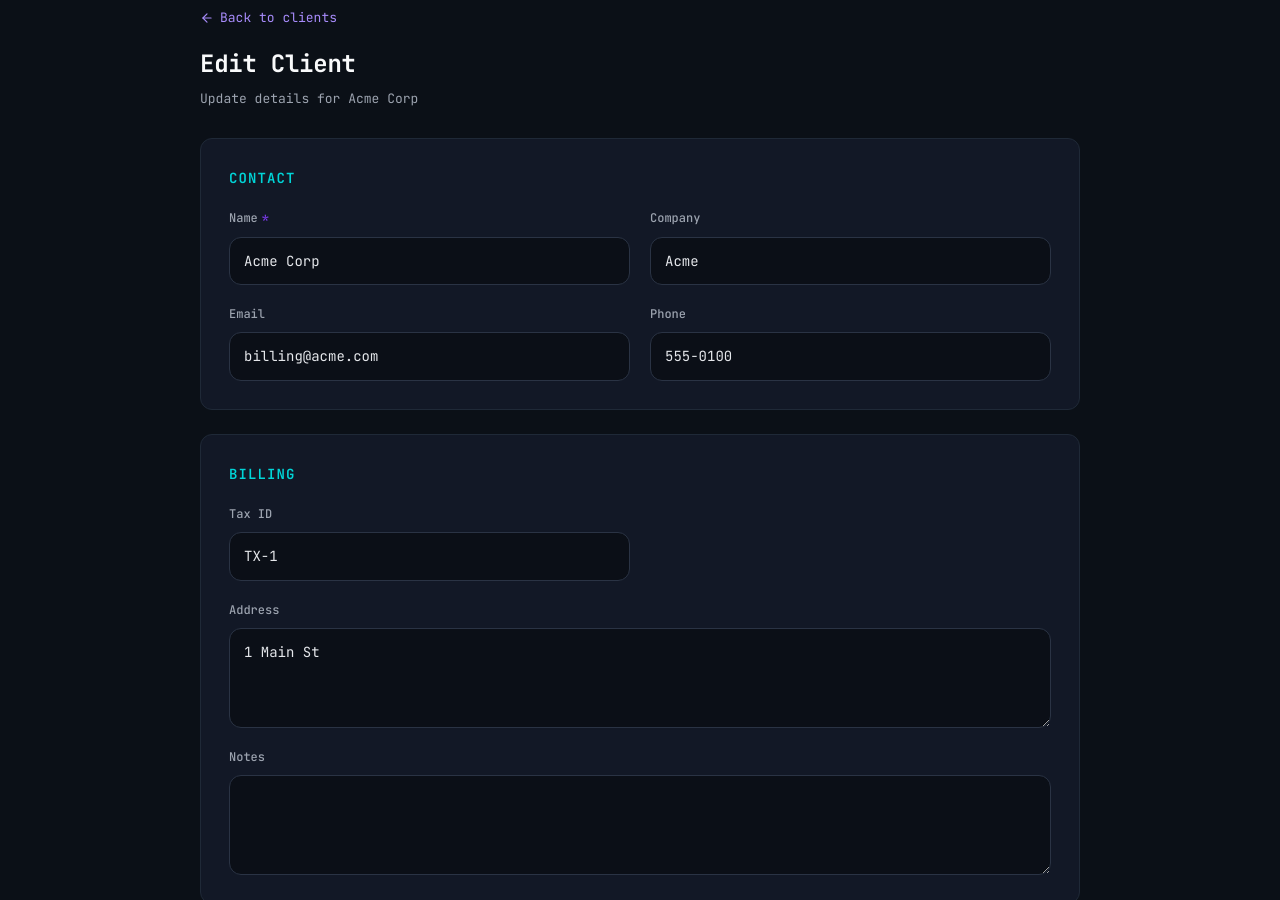
Test case: EditClient page › shows validation error when name is empty
Clear the field showing "Acme Corp" at (430, 261), box [229,237,630,285]
(page scrolled)
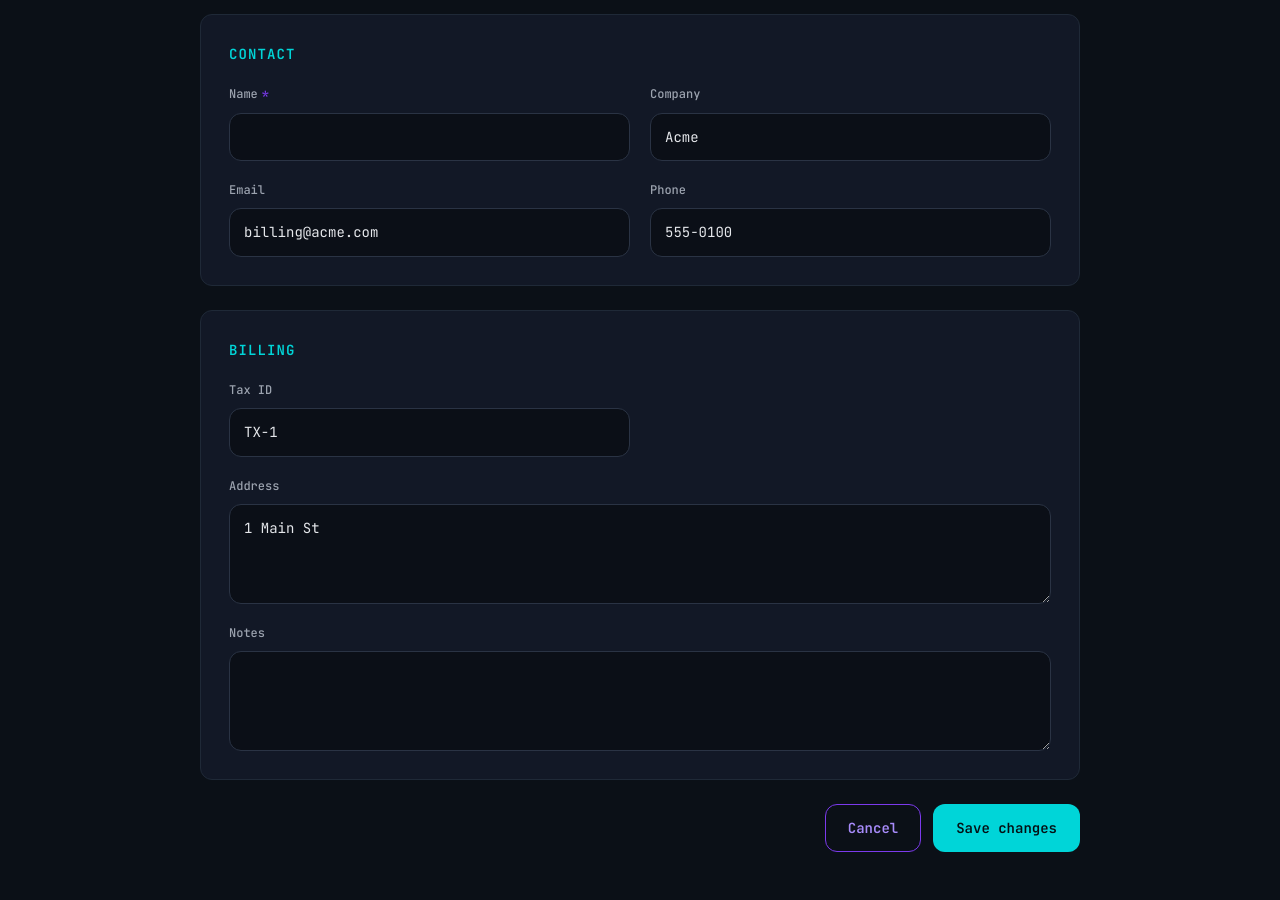
Click the button "Save changes".
click(1007, 828)  # box [933,804,1080,852]
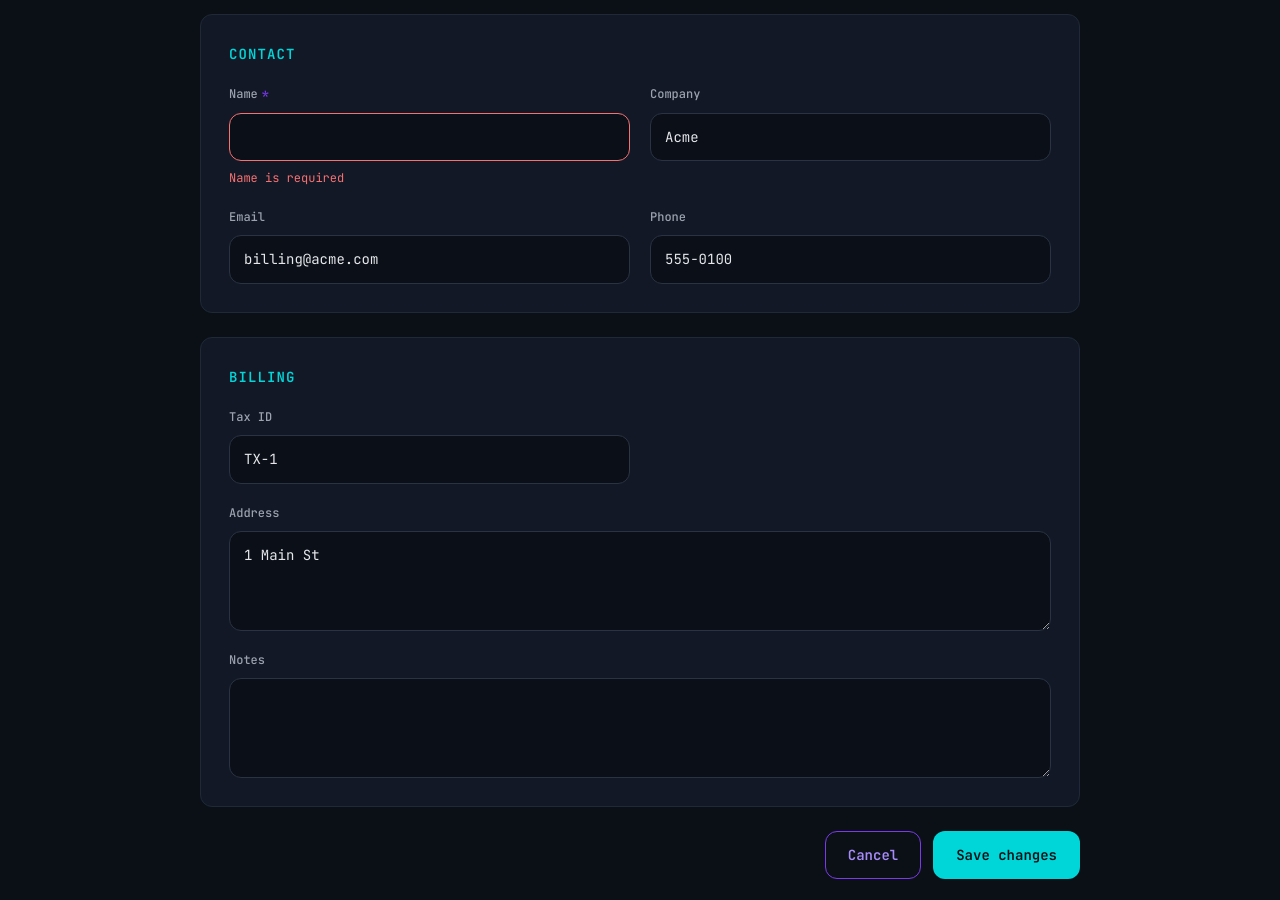
Result: the text "Name is required" is shown at [229,170,344,186]
